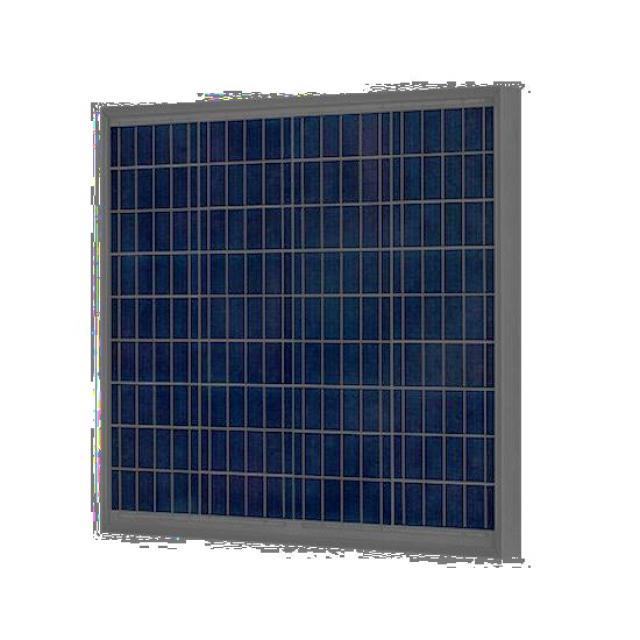no faulty: (100, 90, 508, 544)
